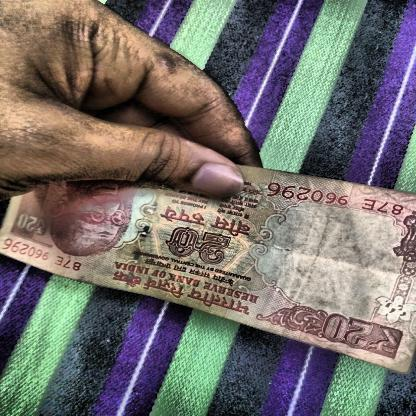Rs20: (310, 307, 412, 365), (160, 222, 238, 269), (9, 208, 58, 241)
